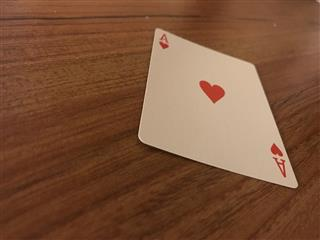AceOfHearts: (137, 27, 298, 189)
